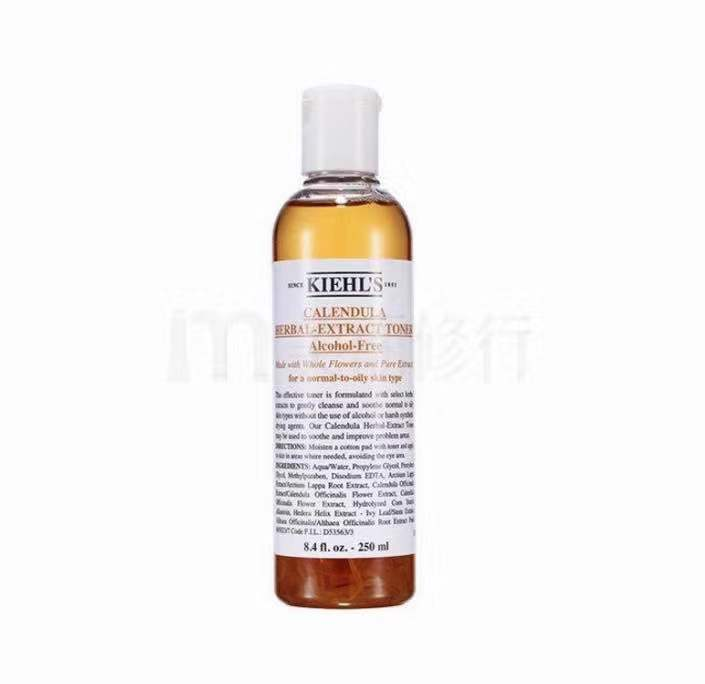cosmetic: (276, 81, 413, 611)
